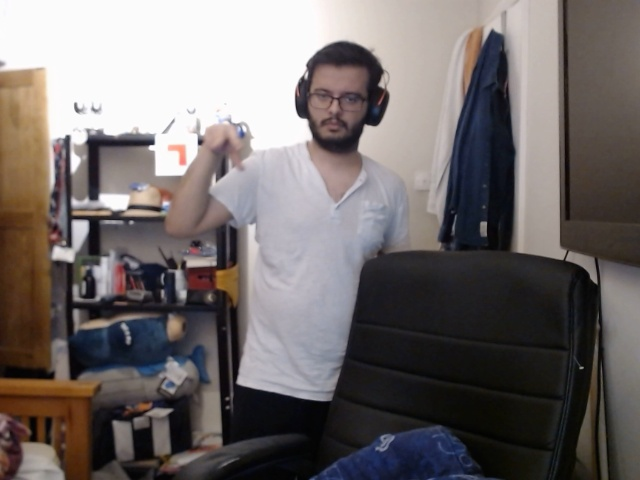No: (182, 118, 253, 183)
